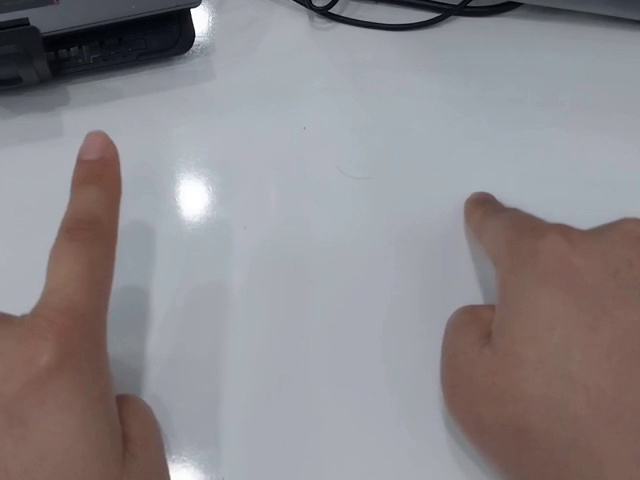fingers: (72, 127, 121, 182), (463, 190, 507, 232)
